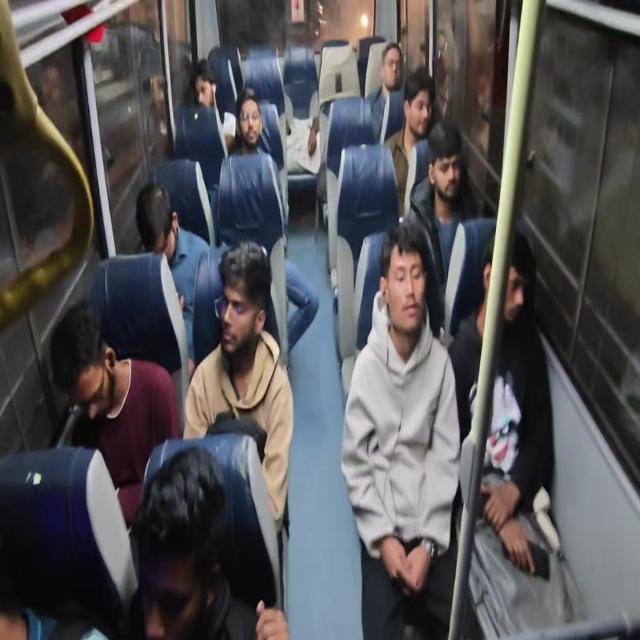person: (340, 221, 462, 638), (182, 239, 294, 611), (447, 228, 555, 578), (128, 443, 289, 639), (49, 298, 181, 528), (0, 444, 138, 638), (225, 87, 319, 359), (405, 119, 480, 336), (135, 181, 210, 375), (382, 66, 436, 220), (176, 58, 235, 154), (281, 45, 321, 174), (367, 41, 405, 144), (145, 74, 169, 162), (192, 58, 217, 109)
